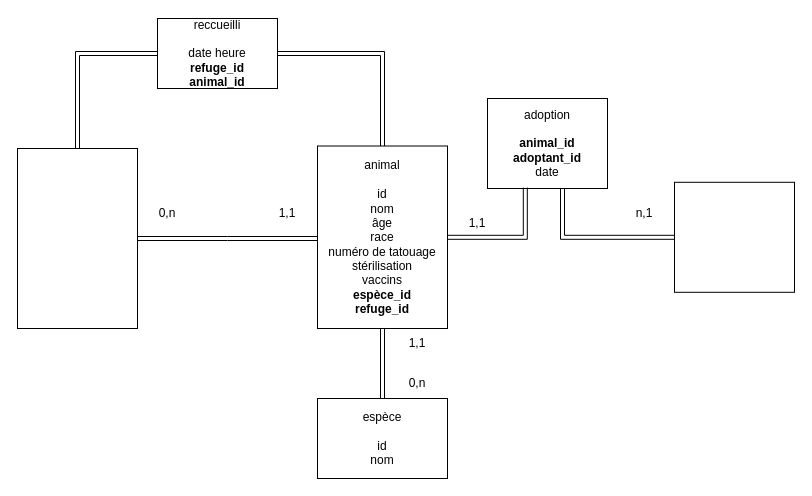
Image size: 812x496. Some labels were removed from this diagram. The centre of each missing label's shape, as x and y in pixels:
adoptant id prénom nom date de naissance adresse: point (734, 236)
refuge id localisation capacité: point (77, 238)
